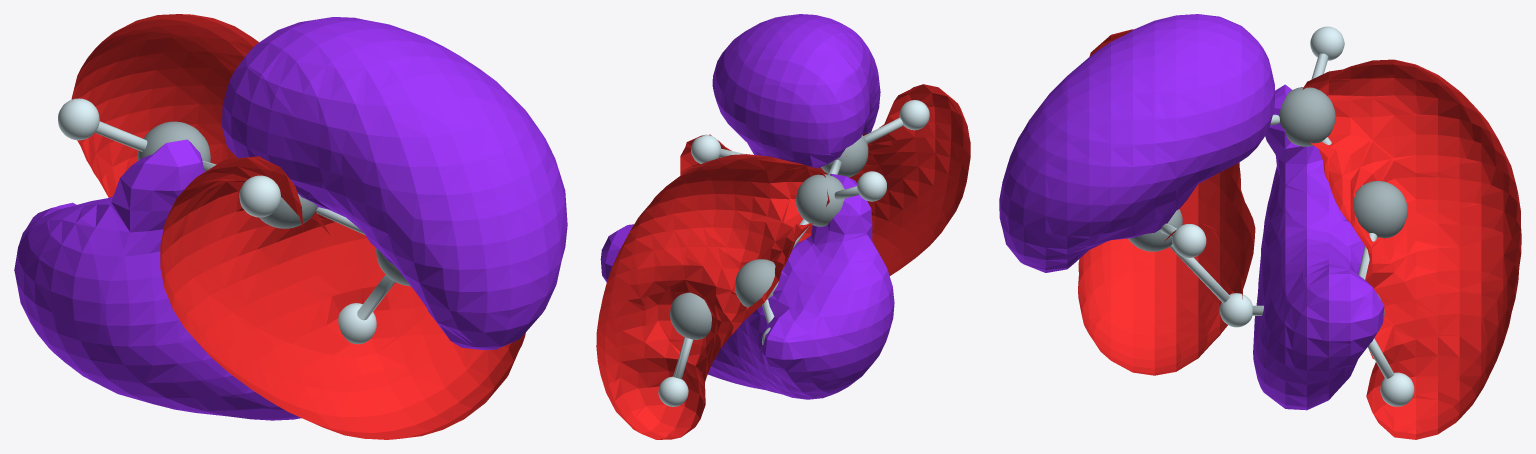
The picture shows the model from 3 angles, left to right: view 1: azimuth 30°, elevation 25°; view 2: azimuth 150°, elevation 25°; view 3: azimuth 270°, elevation 25°; orthographic projection. The views are drawn at different scales.
Parts seen in each view (by area): view 1: Renderer Node; view 2: Renderer Node; view 3: Renderer Node.
Part boxes in pixels (box(x1,y1,x2,y2)): Renderer Node: box(14, 14, 567, 439); Renderer Node: box(596, 14, 970, 439); Renderer Node: box(999, 14, 1521, 439).
Size of the model in its own units: 4.31 by 5.01 by 6.09.
